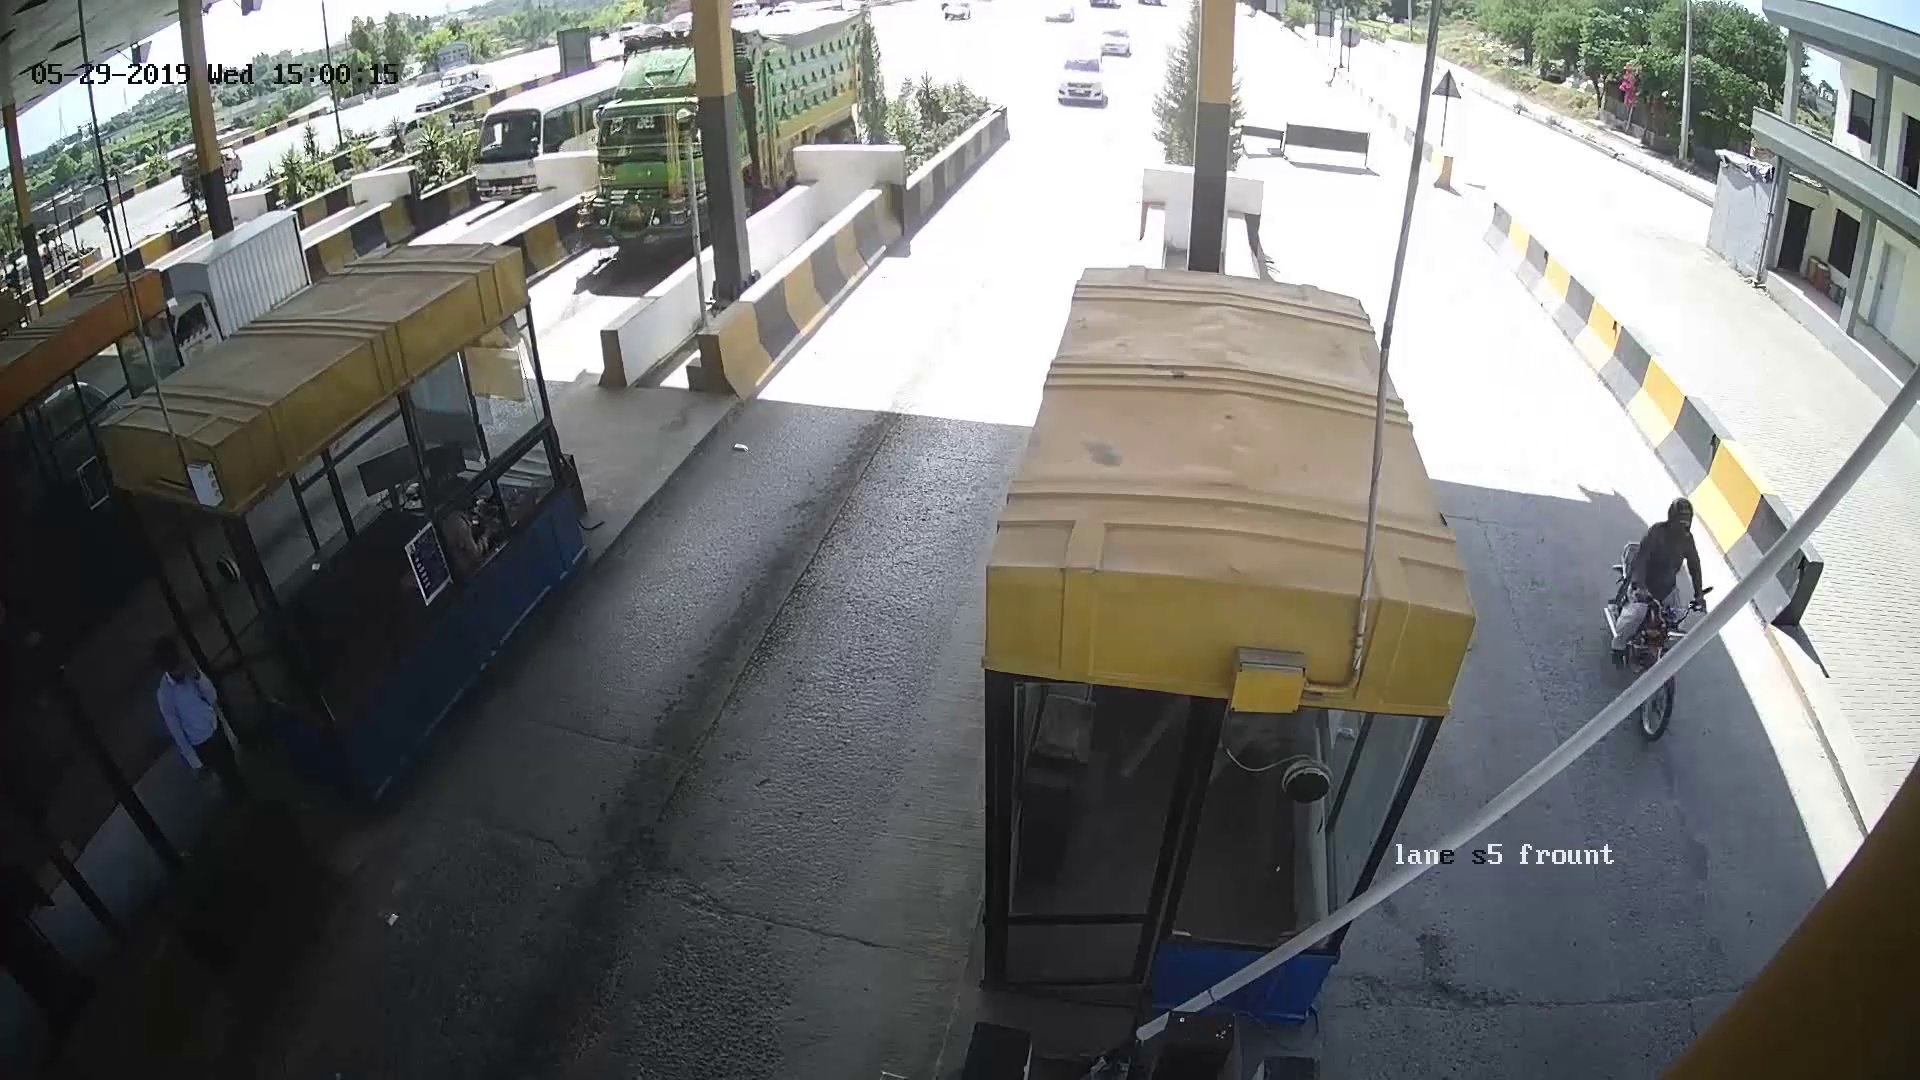car: (1042, 58, 1131, 123)
